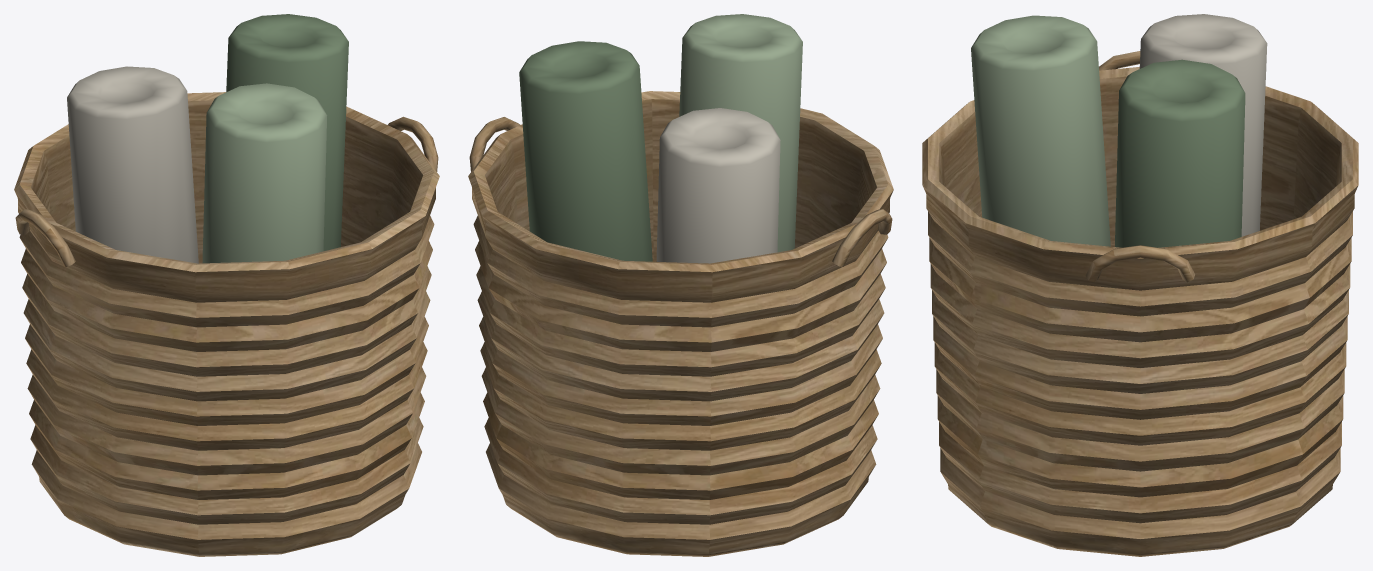
File: decor_d_basket_guest.gltf
3 views of the same model, side by side, from view 1: azimuth 30°, elevation 25°; view 2: azimuth 150°, elevation 25°; view 3: azimuth 270°, elevation 25° (orthographic). The views are drawn at different scales.
Visible parts, largest first — view 1: DecorD_Basket_Guest_Basket, DecorD_Basket_Guest_Linen_NoCollide, DecorD_Basket_Guest_SageLight_NoCollide, DecorD_Basket_Guest_Sage_NoCollide, DecorD_Basket_Guest_OakLight_NoCollide; view 2: DecorD_Basket_Guest_Basket, DecorD_Basket_Guest_Sage_NoCollide, DecorD_Basket_Guest_Linen_NoCollide, DecorD_Basket_Guest_SageLight_NoCollide, DecorD_Basket_Guest_OakLight_NoCollide; view 3: DecorD_Basket_Guest_Basket, DecorD_Basket_Guest_SageLight_NoCollide, DecorD_Basket_Guest_Sage_NoCollide, DecorD_Basket_Guest_Linen_NoCollide, DecorD_Basket_Guest_OakLight_NoCollide.
Boxes of the visible parts, bbox=[...] form: DecorD_Basket_Guest_Basket: bbox=[14, 92, 439, 556]; DecorD_Basket_Guest_Linen_NoCollide: bbox=[67, 66, 198, 263]; DecorD_Basket_Guest_SageLight_NoCollide: bbox=[202, 83, 327, 263]; DecorD_Basket_Guest_Sage_NoCollide: bbox=[226, 14, 348, 250]; DecorD_Basket_Guest_OakLight_NoCollide: bbox=[15, 116, 438, 266]; DecorD_Basket_Guest_Basket: bbox=[468, 91, 893, 556]; DecorD_Basket_Guest_Sage_NoCollide: bbox=[519, 41, 652, 261]; DecorD_Basket_Guest_Linen_NoCollide: bbox=[656, 108, 780, 263]; DecorD_Basket_Guest_SageLight_NoCollide: bbox=[679, 14, 802, 252]; DecorD_Basket_Guest_OakLight_NoCollide: bbox=[469, 117, 892, 266]; DecorD_Basket_Guest_Basket: bbox=[922, 67, 1358, 556]; DecorD_Basket_Guest_SageLight_NoCollide: bbox=[971, 15, 1110, 246]; DecorD_Basket_Guest_Sage_NoCollide: bbox=[1115, 59, 1245, 247]; DecorD_Basket_Guest_Linen_NoCollide: bbox=[1139, 14, 1267, 236]; DecorD_Basket_Guest_OakLight_NoCollide: bbox=[1085, 51, 1195, 282].
Bounding box in the file's own units: 0.4853 × 0.4927 × 0.4485.
4 materials, 1 textured.
